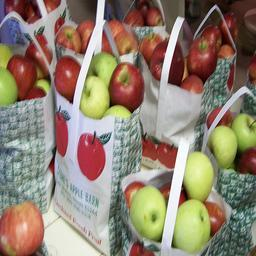apple: (1, 201, 44, 256), (130, 184, 166, 240), (107, 60, 144, 113), (173, 200, 210, 252), (181, 150, 215, 201), (150, 39, 184, 86), (79, 75, 109, 119), (7, 55, 37, 98), (208, 126, 238, 169), (53, 55, 81, 99), (188, 38, 218, 77), (231, 113, 256, 154), (88, 51, 117, 85), (137, 33, 165, 63), (54, 25, 82, 53), (203, 201, 226, 235), (75, 20, 96, 50), (123, 181, 144, 209), (112, 31, 138, 53), (220, 13, 239, 43), (236, 147, 256, 175), (201, 26, 222, 47), (144, 7, 162, 26), (125, 9, 144, 25)
